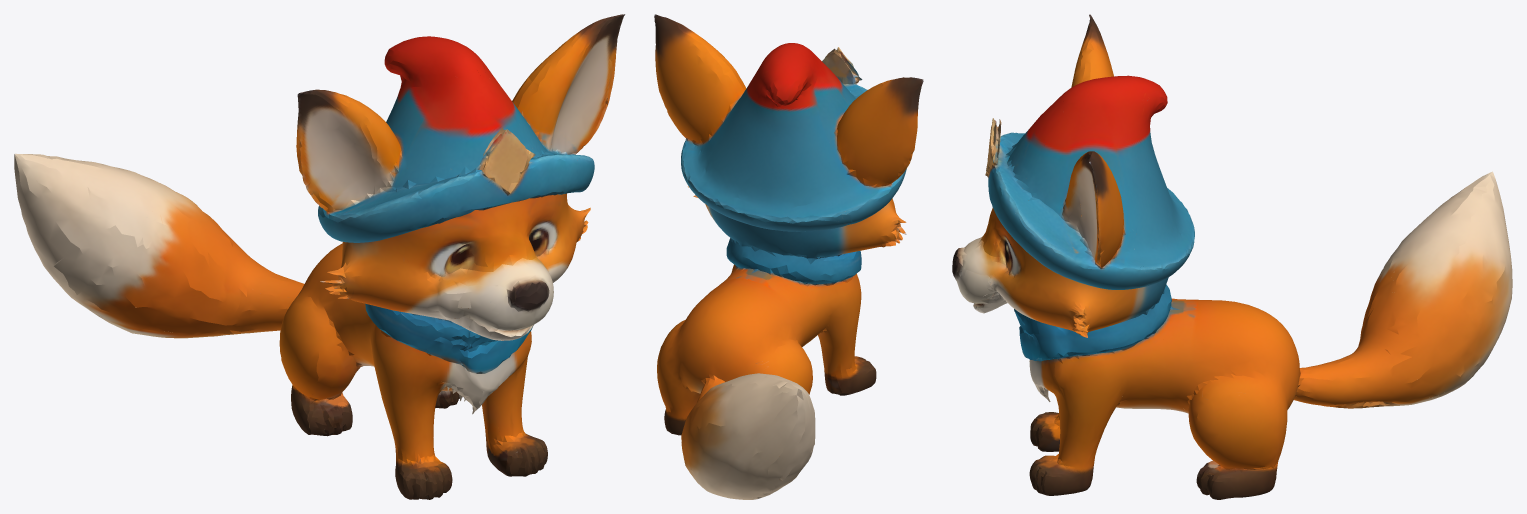
File: fire-fox-spirit.glb
The picture shows the model from 3 angles, left to right: view 1: azimuth 30°, elevation 25°; view 2: azimuth 150°, elevation 25°; view 3: azimuth 270°, elevation 25°; orthographic projection. The views are drawn at different scales.
Parts seen in each view (by area): view 1: FireFoxSpirit; view 2: FireFoxSpirit; view 3: FireFoxSpirit.
Part boxes in pixels (left/top/right/bottom): FireFoxSpirit: left=14, top=14, right=625, bottom=499; FireFoxSpirit: left=654, top=14, right=923, bottom=499; FireFoxSpirit: left=952, top=14, right=1512, bottom=499.
Bounding box in the file's own units: 1.44 × 1.44 × 1.89.
Materials: 1 (1 with a texture image).
